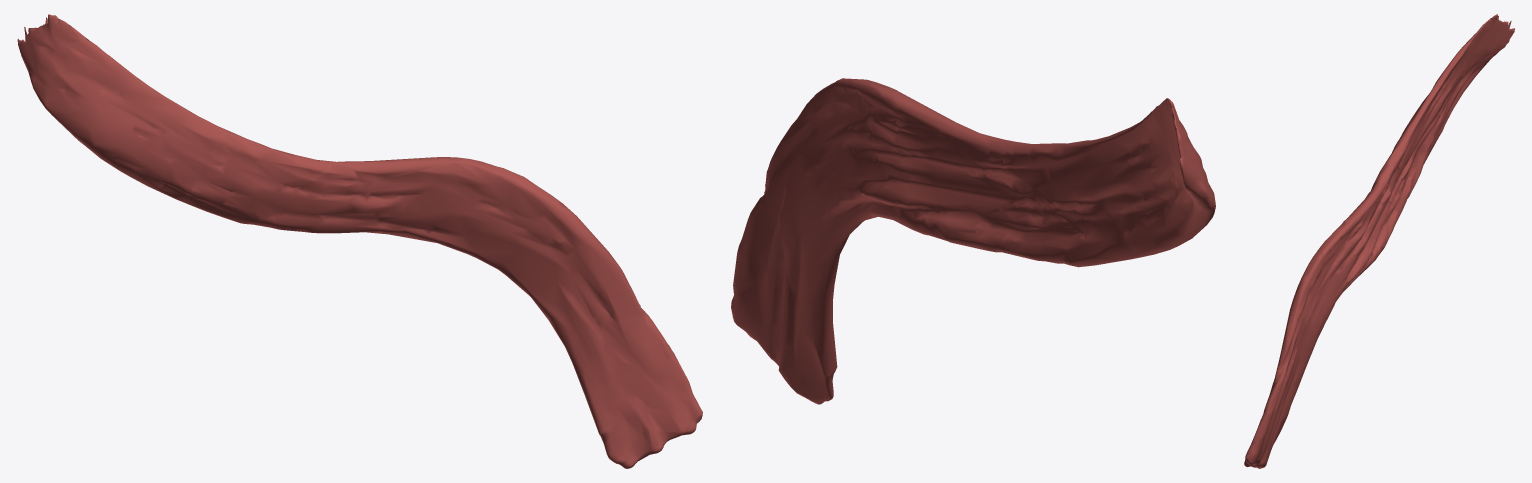
The model's file is FMA46814.glb.
The picture shows the model from 3 angles, left to right: view 1: azimuth 30°, elevation 25°; view 2: azimuth 150°, elevation 25°; view 3: azimuth 270°, elevation 25°; orthographic projection. The views are drawn at different scales.
Visible parts, largest first — view 1: FMA46814; view 2: FMA46814; view 3: FMA46814.
Boxes of the visible parts, left/top/right/bottom form: FMA46814: left=17, top=14, right=702, bottom=468; FMA46814: left=731, top=78, right=1215, bottom=404; FMA46814: left=1244, top=14, right=1514, bottom=468.
Bounding box in the file's own units: 0.0364 × 0.0302 × 0.0241.
